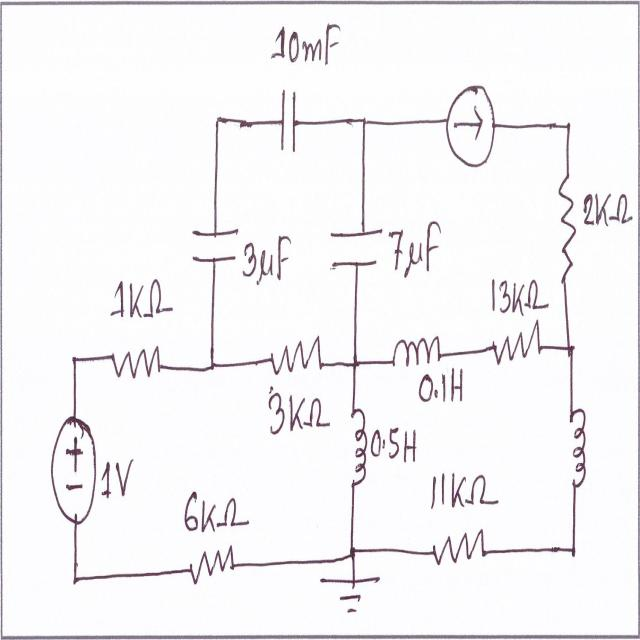capacitor: (187, 216, 246, 274), (329, 224, 386, 280), (277, 84, 300, 167)
current_source: (442, 76, 501, 172)
ground: (321, 569, 388, 622)
inductor: (387, 328, 448, 374), (564, 402, 588, 498), (349, 400, 370, 498)
resistor: (553, 168, 583, 292), (106, 335, 168, 390), (432, 519, 487, 580), (263, 335, 330, 383), (488, 308, 544, 364), (186, 539, 238, 596)
voltage_source: (47, 412, 99, 539)
